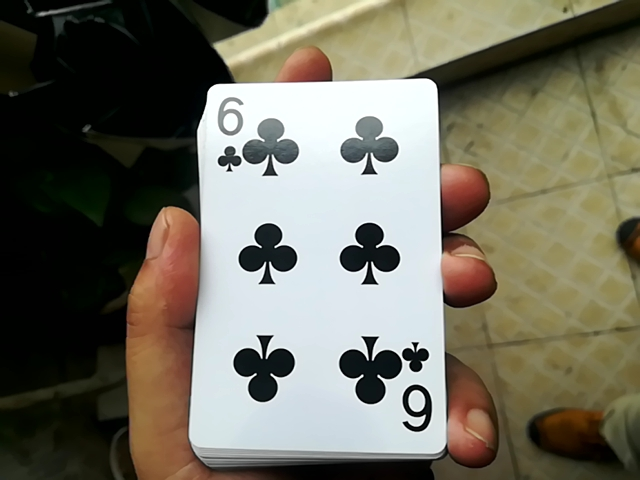mh 6: (175, 78, 445, 456)
